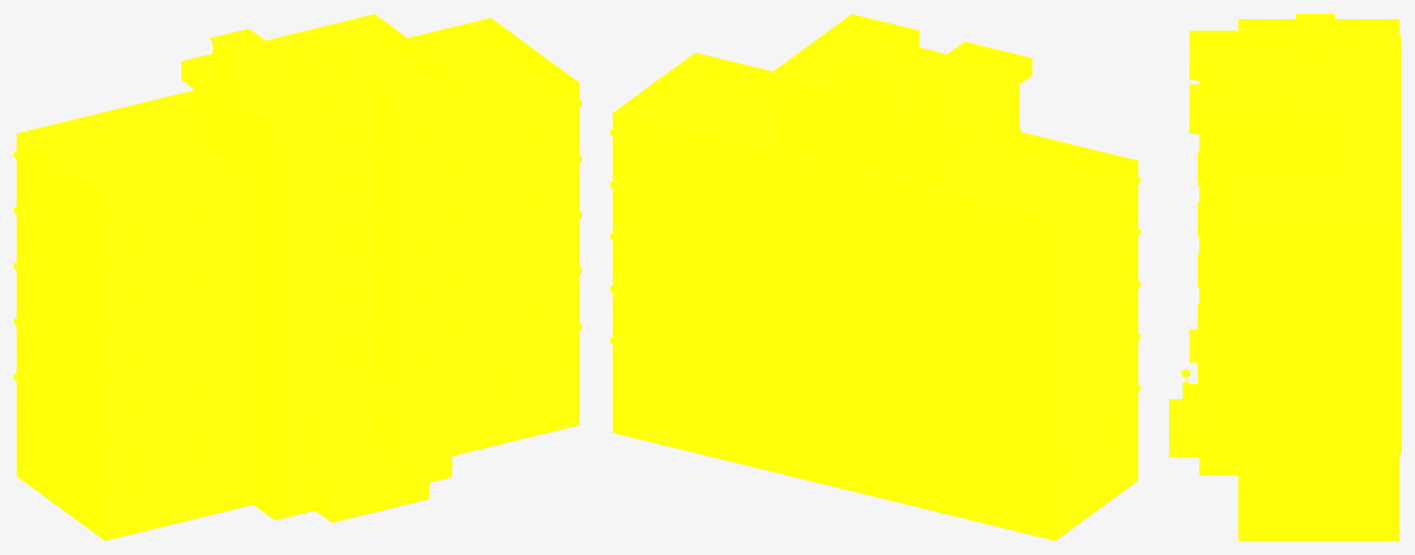
Rendered from building-hotel.glb.
3 renders of one model, left to right at view 1: azimuth 30°, elevation 25°; view 2: azimuth 150°, elevation 25°; view 3: azimuth 270°, elevation 25°, orthographic. The views are drawn at different scales.
Parts seen in each view (by area): view 1: building-hotel; view 2: building-hotel; view 3: building-hotel.
Boxes of the visible parts, <box> form: building-hotel: <box>14,14,581,540</box>; building-hotel: <box>610,14,1140,540</box>; building-hotel: <box>1169,14,1400,540</box>.
Size of the model in its own units: 29.6 by 25.2 by 13.7.
1 material, 1 textured.
